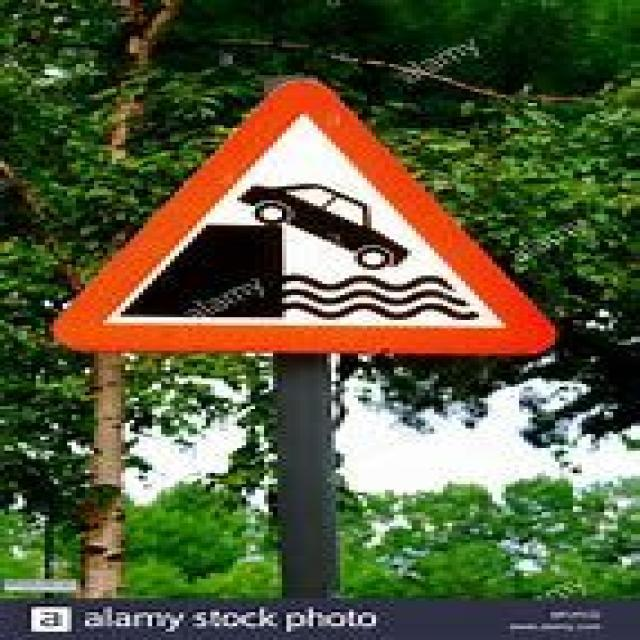quay side or river bank: (53, 75, 562, 358)
